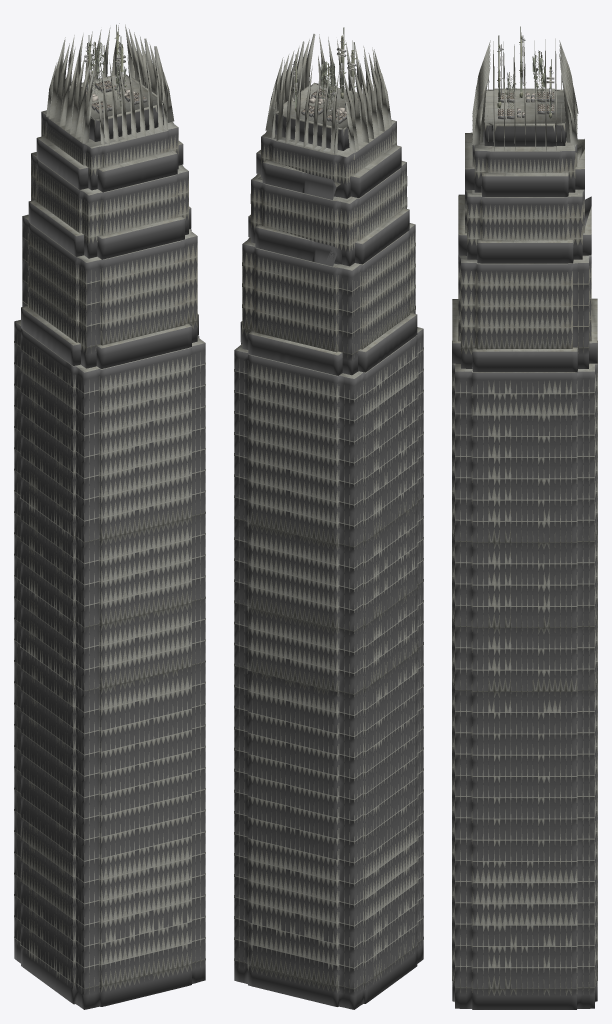
The model's file is Building 1.glb.
3 views of the same model, side by side, from view 1: azimuth 30°, elevation 25°; view 2: azimuth 150°, elevation 25°; view 3: azimuth 270°, elevation 25° (orthographic).
Parts seen in each view (by area): view 1: HK Building 1; view 2: HK Building 1; view 3: HK Building 1.
Part boxes in pixels (x1,y1,x2,y2): HK Building 1: (14, 23, 205, 1009); HK Building 1: (234, 27, 423, 1009); HK Building 1: (452, 26, 597, 1009).
Bounding box in the file's own units: 14.09 × 102 × 14.09.
Materials: 7 (6 with a texture image).
